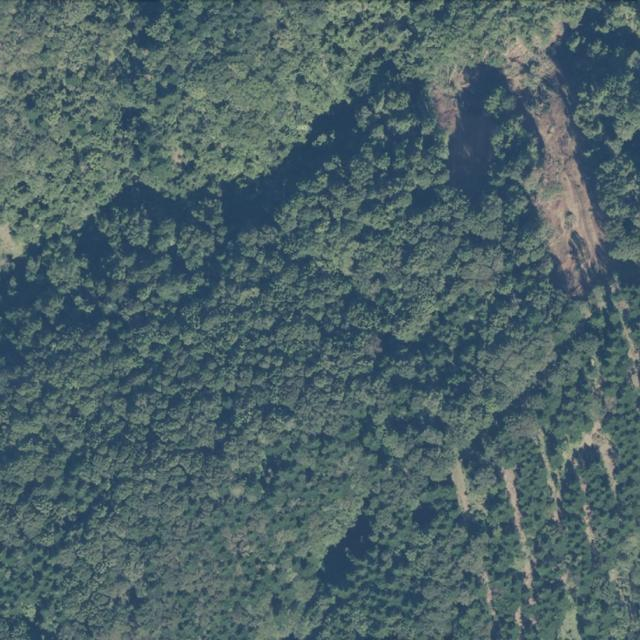landslide: (525, 73, 604, 295)
